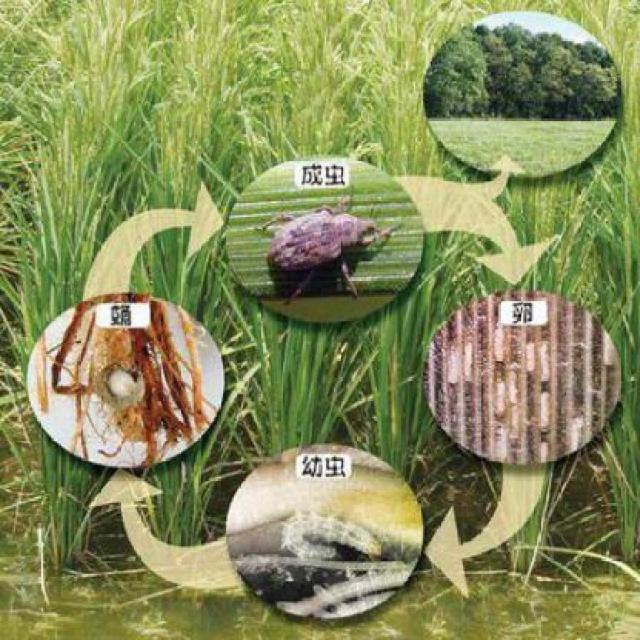rice-bug: (260, 198, 377, 302)
